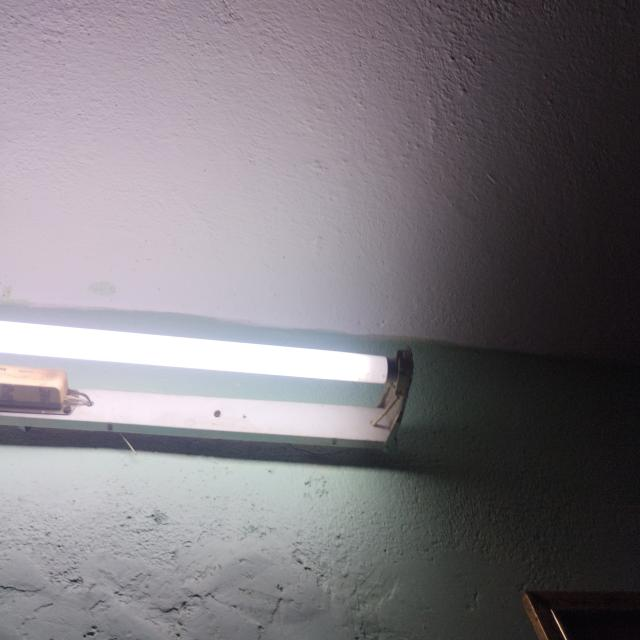tubelight_on: (0, 310, 415, 455)
